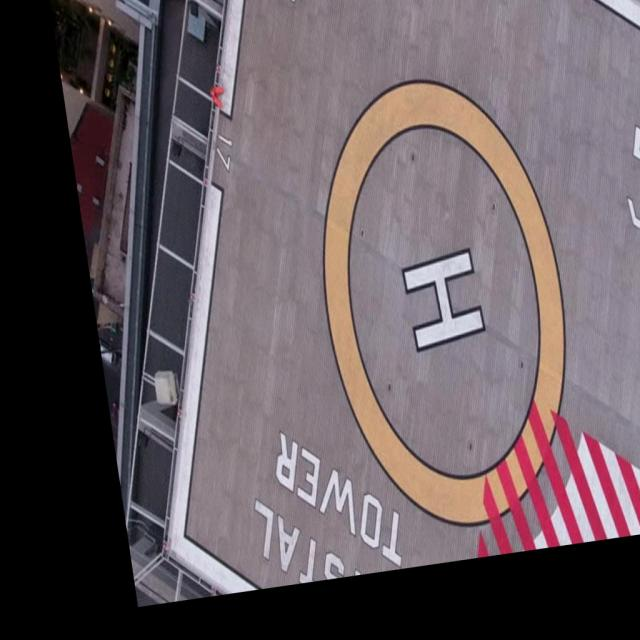helipad: (317, 74, 568, 529)
